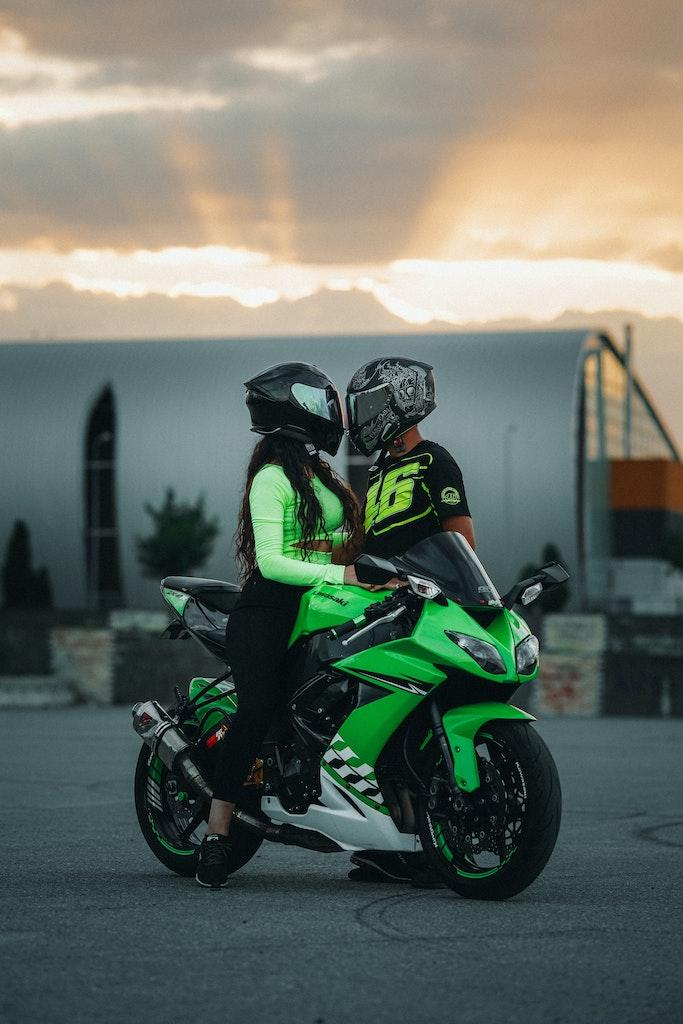helmet: (243, 360, 345, 458), (344, 355, 438, 458)
